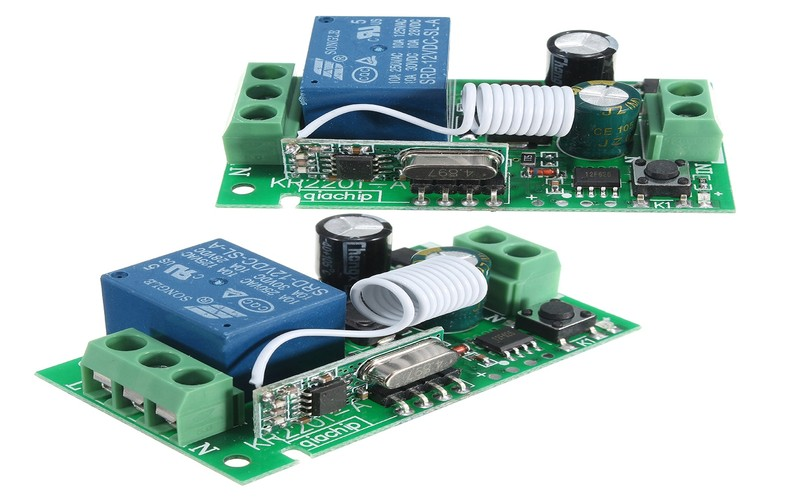Switches: (66, 200, 638, 454), (197, 6, 729, 233)
